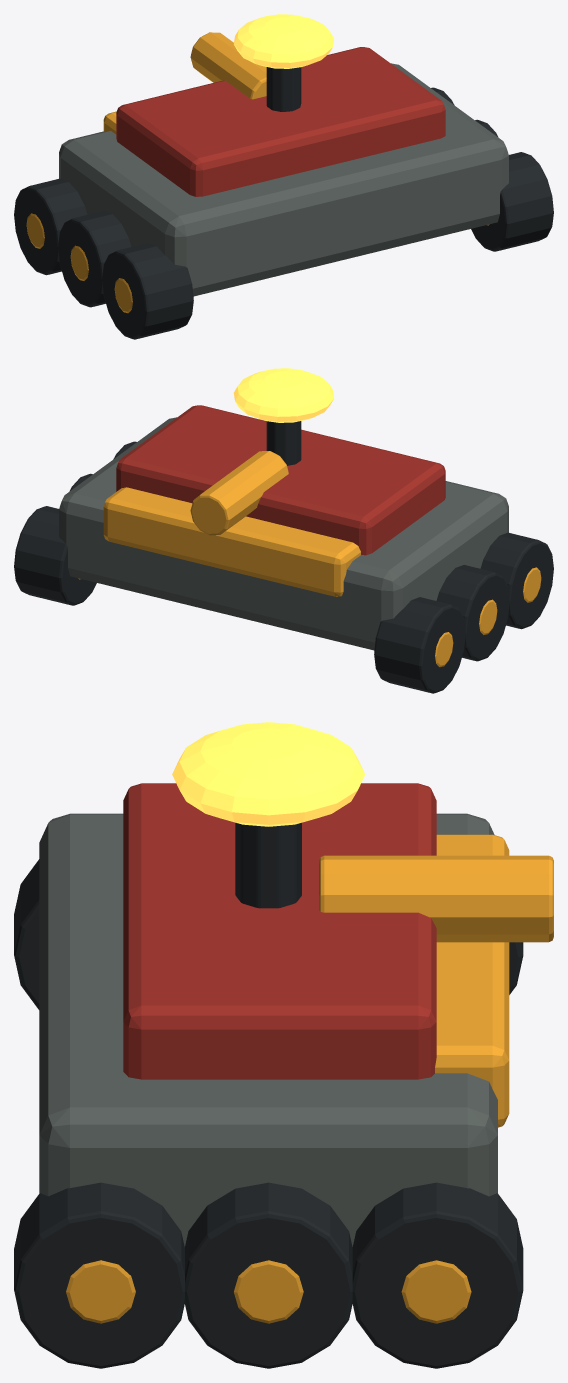
Rendered from SM_Soviet_SU_RysScout.fbx.
3 renders of one model, top to bottom at view 1: azimuth 30°, elevation 25°; view 2: azimuth 150°, elevation 25°; view 3: azimuth 270°, elevation 25°, orthographic. The views are drawn at different scales.
Visible parts, largest first — view 1: SM_Soviet_SU_RysScout, SM_Soviet_SU_RysScout_UpperHull, SM_Soviet_SU_RysScout_Wheel_00, SM_Soviet_SU_RysScout_Wheel_03, SM_Soviet_SU_RysScout_Sensor, SM_Soviet_SU_RysScout_Wheel_01, SM_Soviet_SU_RysScout_Wheel_02, SM_Soviet_SU_RysScout_LightCannon, SM_Soviet_SU_RysScout_SensorMast, SM_Soviet_SU_RysScout_Hub_01, SM_Soviet_SU_RysScout_Hub_00, SM_Soviet_SU_RysScout_Hub_02; view 2: SM_Soviet_SU_RysScout, SM_Soviet_SU_RysScout_UpperHull, SM_Soviet_SU_RysScout_Glacis, SM_Soviet_SU_RysScout_Wheel_02, SM_Soviet_SU_RysScout_Wheel_05, SM_Soviet_SU_RysScout_Sensor, SM_Soviet_SU_RysScout_LightCannon, SM_Soviet_SU_RysScout_Wheel_01, SM_Soviet_SU_RysScout_Wheel_00, SM_Soviet_SU_RysScout_SensorMast, SM_Soviet_SU_RysScout_Hub_01, SM_Soviet_SU_RysScout_Hub_00 (+1 smaller); view 3: SM_Soviet_SU_RysScout, SM_Soviet_SU_RysScout_UpperHull, SM_Soviet_SU_RysScout_Wheel_05, SM_Soviet_SU_RysScout_Wheel_03, SM_Soviet_SU_RysScout_Wheel_04, SM_Soviet_SU_RysScout_LightCannon, SM_Soviet_SU_RysScout_Sensor, SM_Soviet_SU_RysScout_Glacis, SM_Soviet_SU_RysScout_SensorMast, SM_Soviet_SU_RysScout_Hub_03, SM_Soviet_SU_RysScout_Hub_04, SM_Soviet_SU_RysScout_Hub_05 (+1 smaller).
Boxes of the visible parts, x1,y1,x2,y2 form: SM_Soviet_SU_RysScout: (59,63,508,296); SM_Soviet_SU_RysScout_UpperHull: (116,47,445,196); SM_Soviet_SU_RysScout_Wheel_00: (102,243,193,339); SM_Soviet_SU_RysScout_Wheel_03: (471,152,553,251); SM_Soviet_SU_RysScout_Sensor: (233,14,334,68); SM_Soviet_SU_RysScout_Wheel_01: (58,211,131,307); SM_Soviet_SU_RysScout_Wheel_02: (14,178,87,275); SM_Soviet_SU_RysScout_LightCannon: (190,32,266,99); SM_Soviet_SU_RysScout_SensorMast: (266,67,301,111); SM_Soviet_SU_RysScout_Hub_01: (70,245,88,280); SM_Soviet_SU_RysScout_Hub_00: (114,278,132,313); SM_Soviet_SU_RysScout_Hub_02: (26,213,44,248); SM_Soviet_SU_RysScout: (59,417,508,650); SM_Soviet_SU_RysScout_UpperHull: (116,405,445,555); SM_Soviet_SU_RysScout_Glacis: (103,487,360,596); SM_Soviet_SU_RysScout_Wheel_02: (374,597,465,693); SM_Soviet_SU_RysScout_Wheel_05: (14,506,96,605); SM_Soviet_SU_RysScout_Sensor: (233,368,334,422); SM_Soviet_SU_RysScout_LightCannon: (190,451,288,535); SM_Soviet_SU_RysScout_Wheel_01: (436,565,509,661); SM_Soviet_SU_RysScout_Wheel_00: (480,532,553,629); SM_Soviet_SU_RysScout_SensorMast: (266,421,301,465); SM_Soviet_SU_RysScout_Hub_01: (479,599,497,634); SM_Soviet_SU_RysScout_Hub_00: (523,567,541,602); SM_Soviet_SU_RysScout: (39,813,497,1246); SM_Soviet_SU_RysScout_UpperHull: (123,783,436,1079); SM_Soviet_SU_RysScout_Wheel_05: (352,1182,523,1368); SM_Soviet_SU_RysScout_Wheel_03: (14,1182,184,1368); SM_Soviet_SU_RysScout_Wheel_04: (185,1182,352,1368); SM_Soviet_SU_RysScout_LightCannon: (319,855,553,942); SM_Soviet_SU_RysScout_Sensor: (172,722,365,826); SM_Soviet_SU_RysScout_Glacis: (435,834,509,1127); SM_Soviet_SU_RysScout_SensorMast: (235,822,301,908); SM_Soviet_SU_RysScout_Hub_03: (66,1260,135,1323); SM_Soviet_SU_RysScout_Hub_04: (234,1260,303,1323); SM_Soviet_SU_RysScout_Hub_05: (401,1260,471,1323).
Size of what is drawn, in the model's own units: 355 by 212 by 191.
